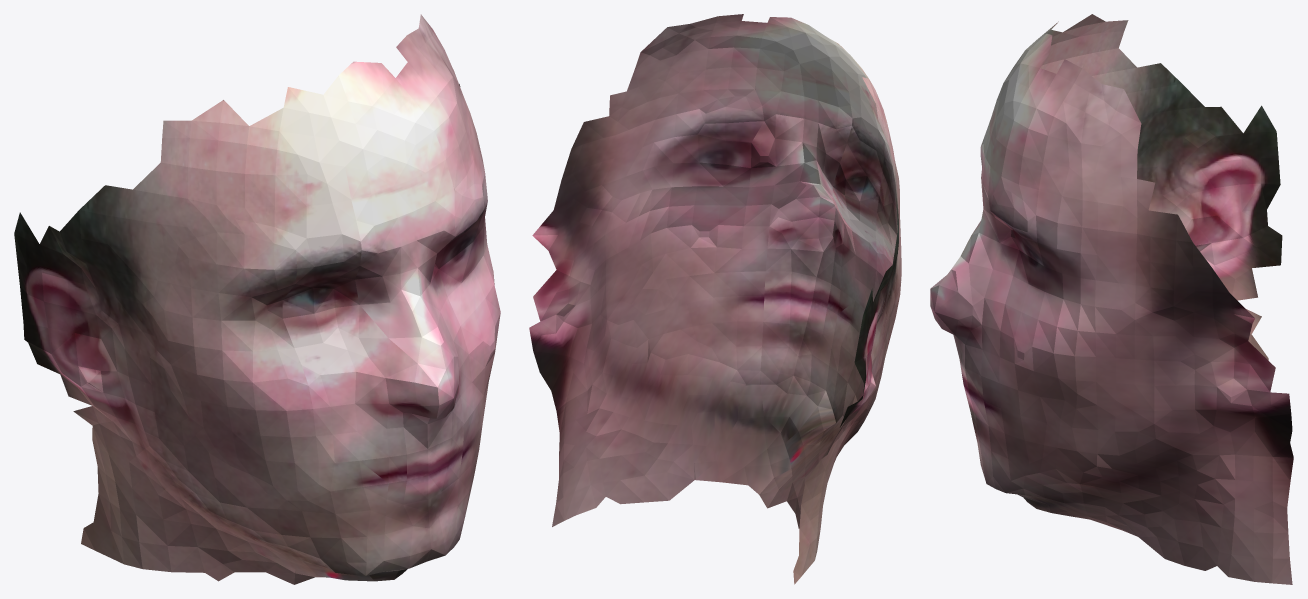
The picture shows the model from 3 angles, left to right: view 1: azimuth 30°, elevation 25°; view 2: azimuth 150°, elevation 25°; view 3: azimuth 270°, elevation 25°; orthographic projection. The views are drawn at different scales.
Visible parts, largest first — view 1: nicoHead; view 2: nicoHead; view 3: nicoHead.
Boxes of the visible parts, left/top/right/bottom form: nicoHead: left=14, top=14, right=500, bottom=584; nicoHead: left=529, top=14, right=901, bottom=584; nicoHead: left=930, top=14, right=1293, bottom=584.
Bounding box in the file's own units: 172 × 221 × 149.
1 material, 1 textured.
